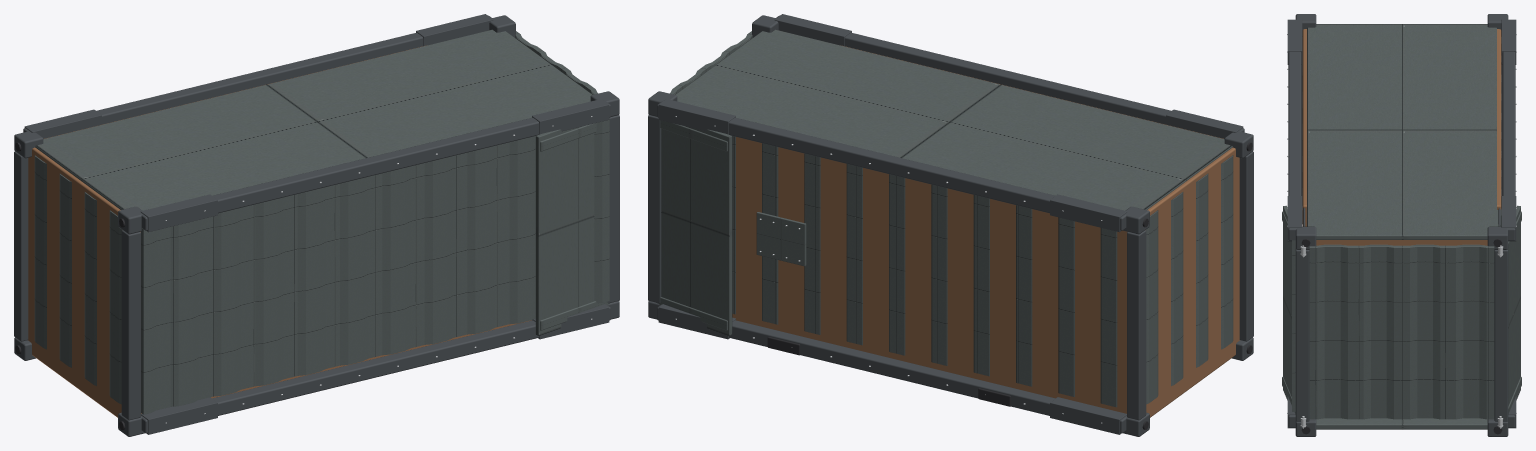
The model's file is container-open.glb.
3 renders of one model, left to right at view 1: azimuth 30°, elevation 25°; view 2: azimuth 150°, elevation 25°; view 3: azimuth 270°, elevation 25°, orthographic. The views are drawn at different scales.
Parts seen in each view (by area): view 1: shipping-container-open; view 2: shipping-container-open; view 3: shipping-container-open.
Part boxes in pixels (box(x1,y1,x2,y2)): shipping-container-open: box(14, 14, 619, 436); shipping-container-open: box(648, 14, 1253, 436); shipping-container-open: box(1282, 14, 1521, 436).
Size of the model in its own units: 6.13 by 2.6 by 2.78.
Materials: 5 (1 with a texture image).
